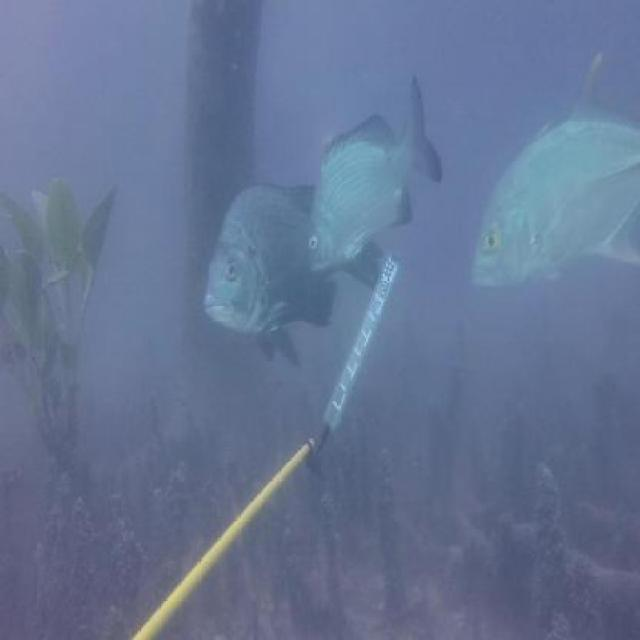Caranx: (469, 49, 640, 297)
acanthopagrus_palmaris: (205, 171, 388, 364), (306, 68, 446, 287)
